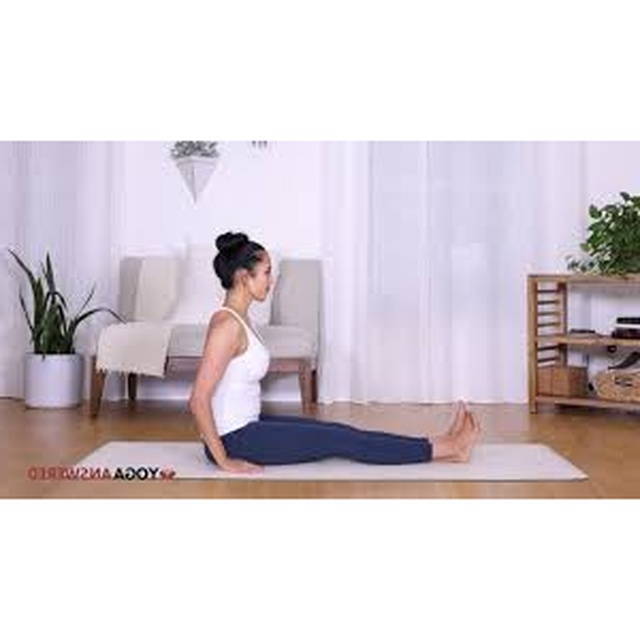Staff_Pose: (188, 228, 478, 472)
